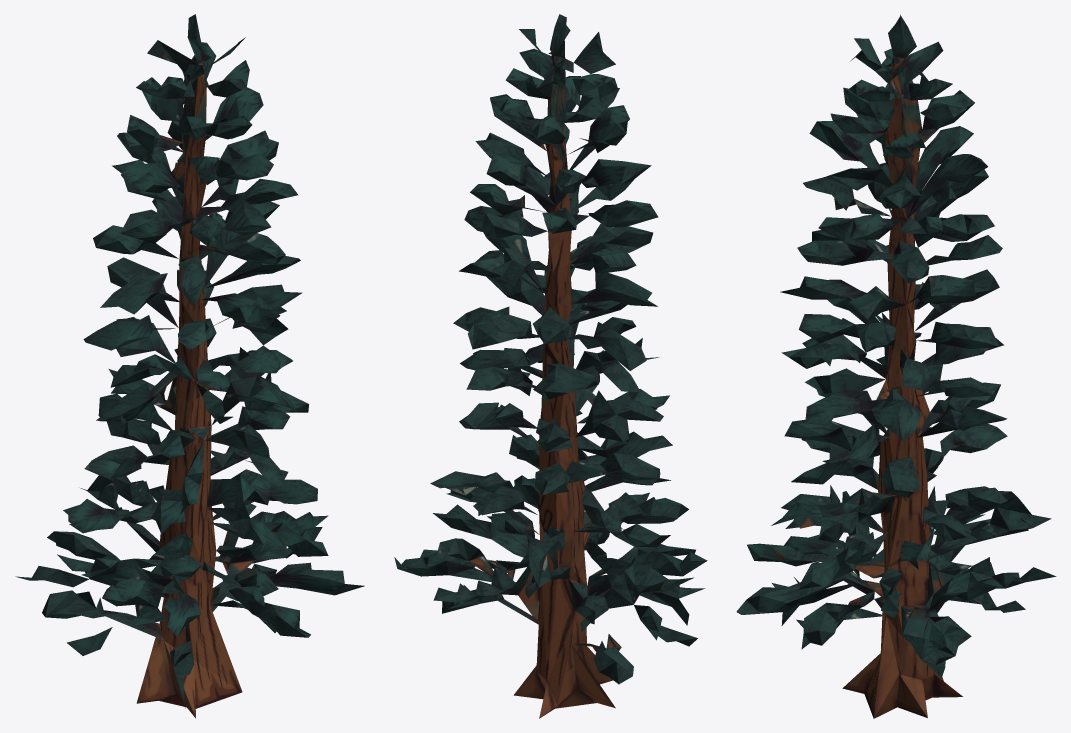
The model's file is tree-pine.glb.
3 views of the same model, side by side, from view 1: azimuth 30°, elevation 25°; view 2: azimuth 150°, elevation 25°; view 3: azimuth 270°, elevation 25° (orthographic).
Size of the model in its own units: 0.8168 by 1.86 by 0.7845.
1 material, 1 textured.
